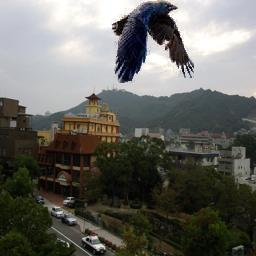Crow: (112, 0, 195, 83)
